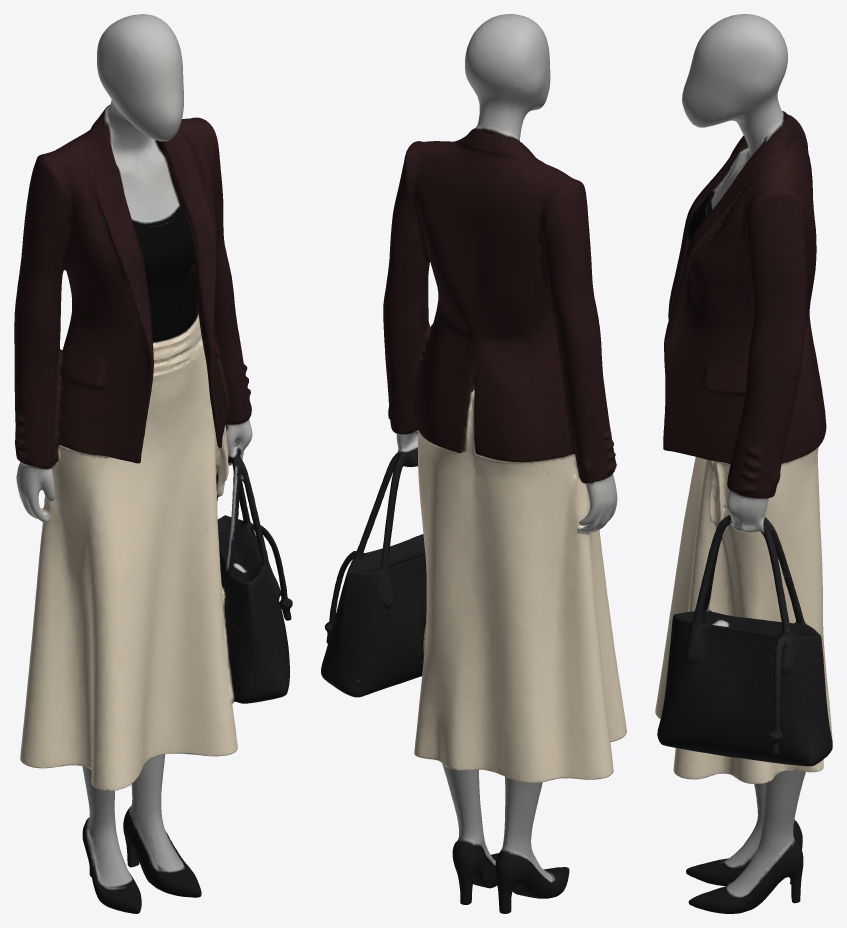
File: look01.glb
The picture shows the model from 3 angles, left to right: view 1: azimuth 30°, elevation 25°; view 2: azimuth 150°, elevation 25°; view 3: azimuth 270°, elevation 25°; orthographic projection.
Bounding box in the file's own units: 0.6422 × 1.9 × 0.3496.
1 material, 1 textured.
